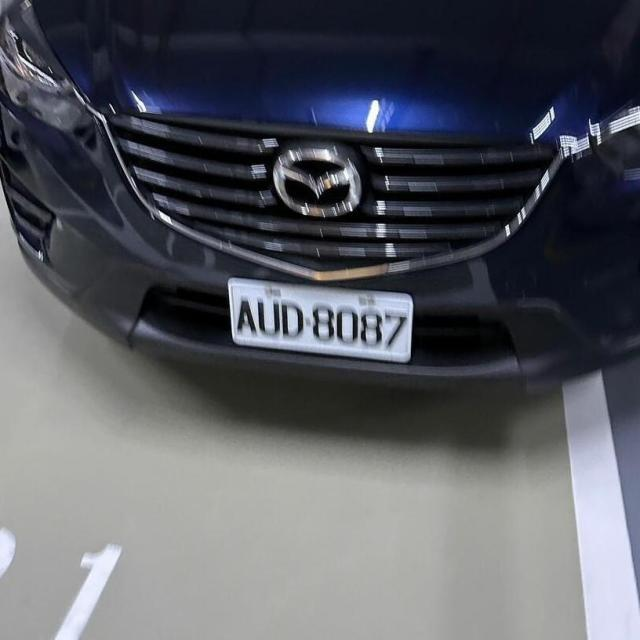W: (217, 265, 420, 372)
